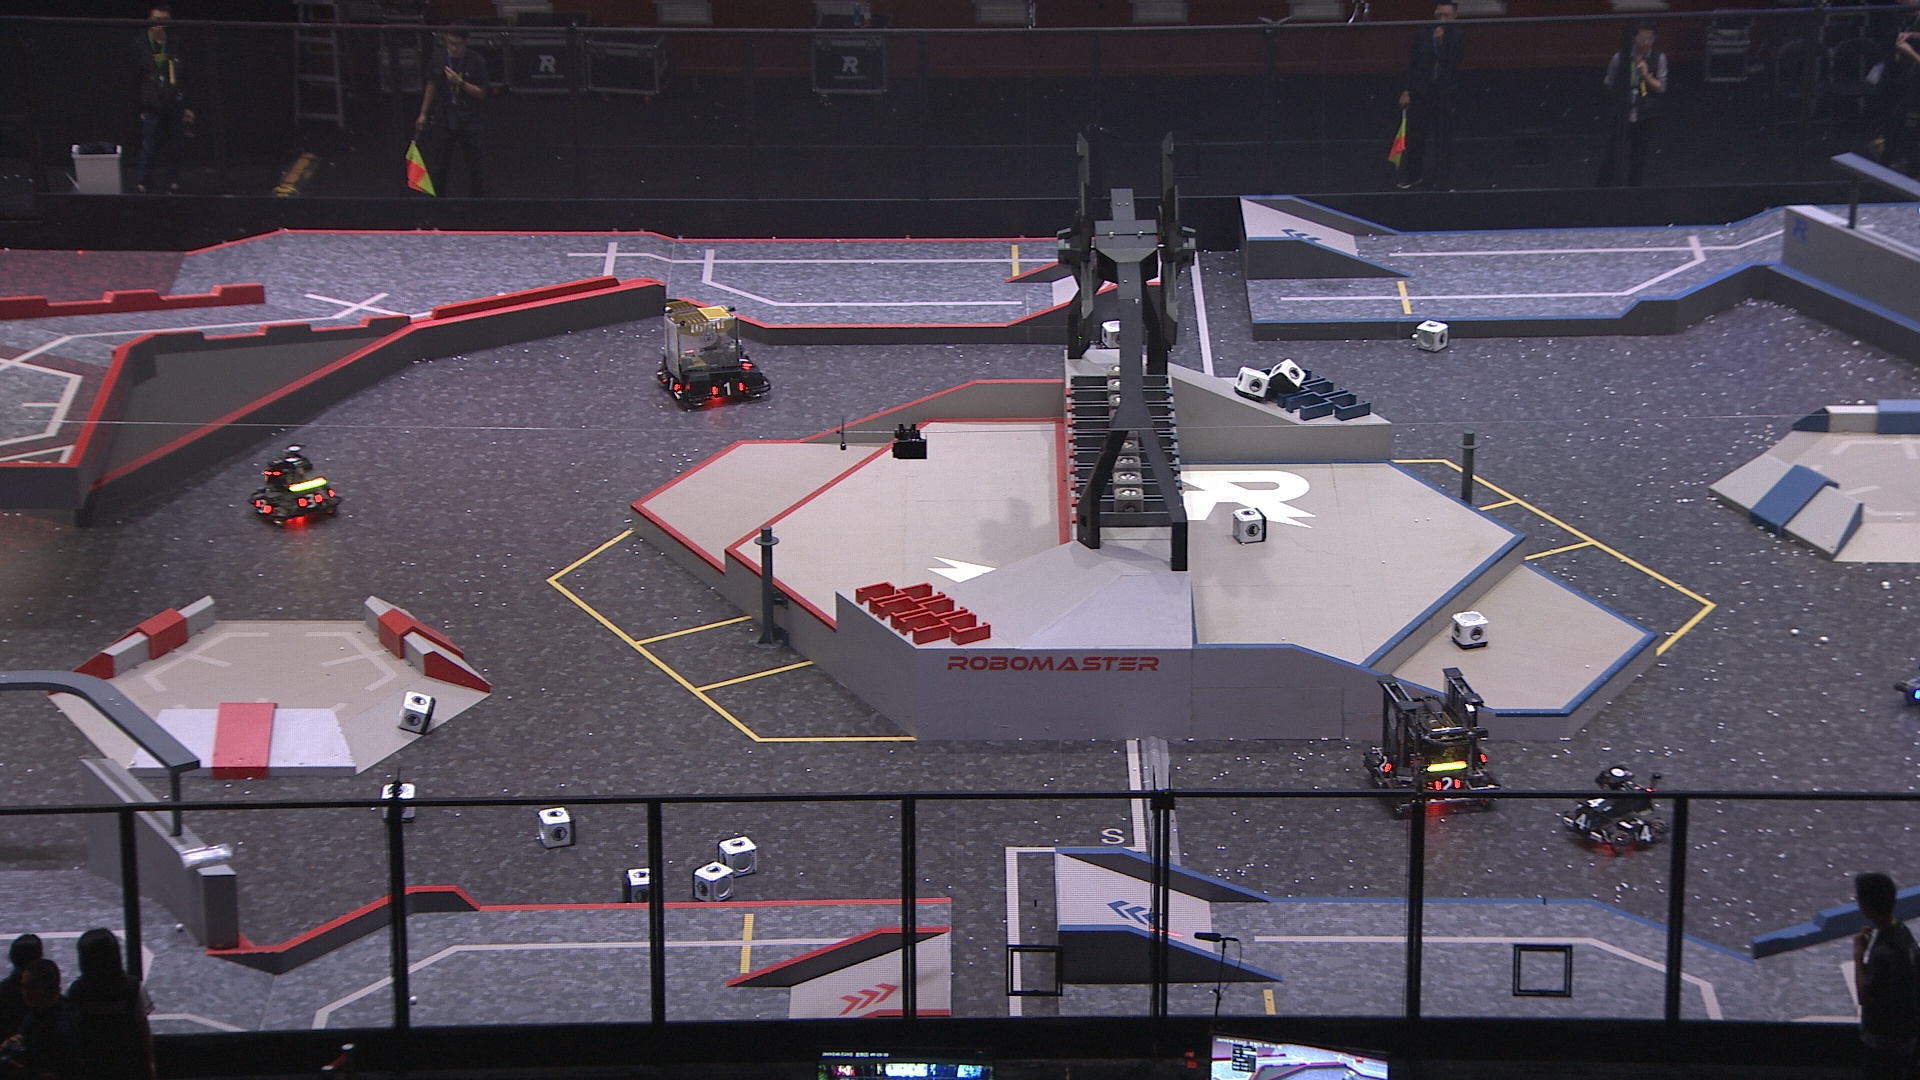armor: (707, 378, 746, 398), (1571, 808, 1594, 833), (1633, 823, 1658, 845), (1433, 775, 1461, 794), (733, 351, 754, 375), (1584, 796, 1611, 814), (1375, 752, 1394, 777), (255, 493, 273, 518), (295, 493, 324, 509), (661, 373, 680, 392)
car: (1362, 669, 1501, 816), (655, 297, 773, 411), (1557, 764, 1673, 851), (244, 444, 343, 533)
